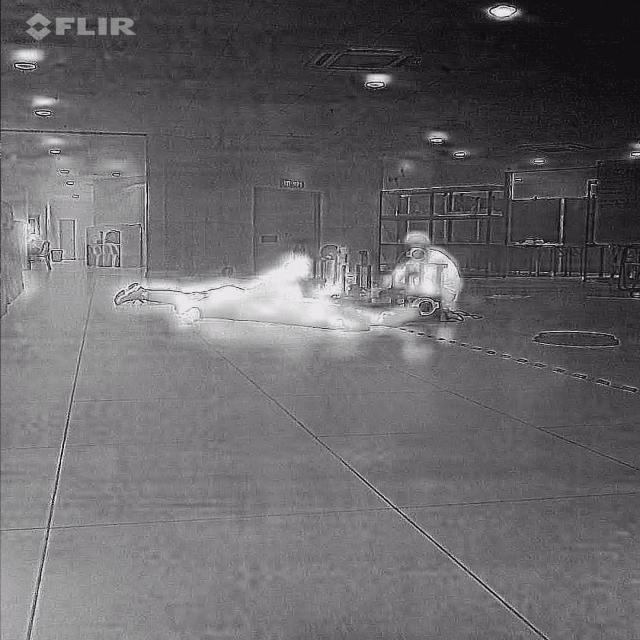Victim: (165, 286, 395, 334), (118, 250, 316, 300), (383, 221, 470, 305)
